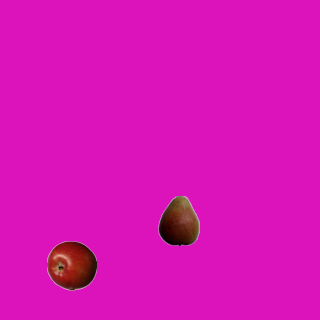Apple Braeburn: (46, 240, 96, 290)
Pear Forelle: (153, 195, 203, 245)
